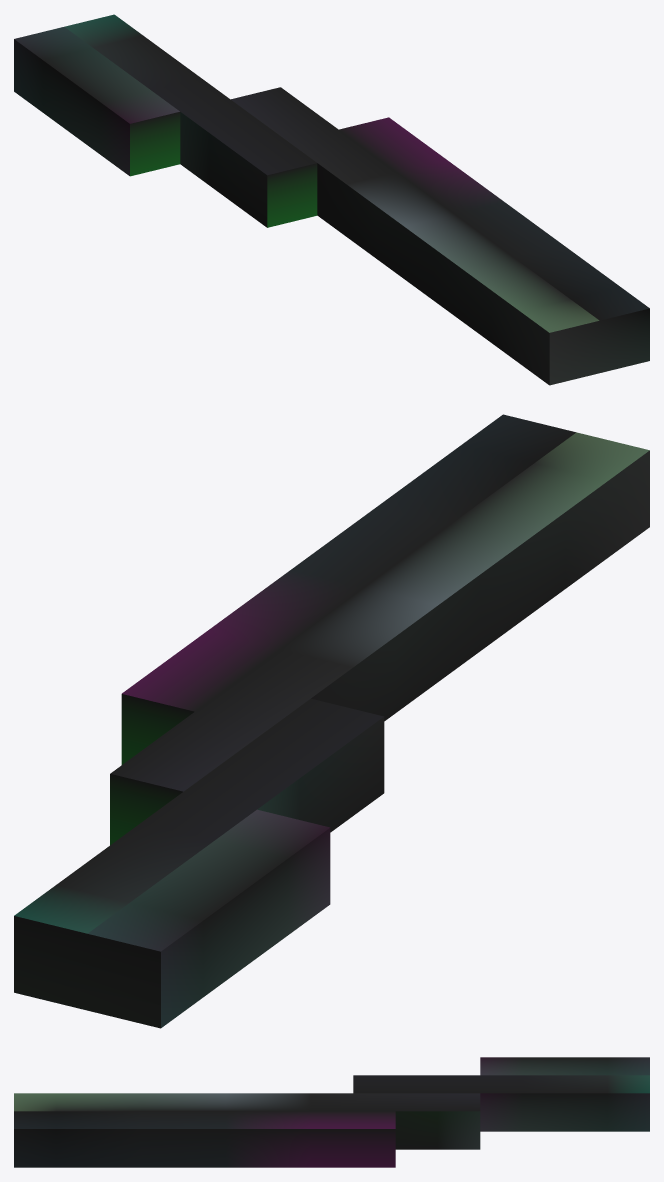
Rendered from Cable_S_00.fbx.
3 renders of one model, top to bottom at view 1: azimuth 30°, elevation 25°; view 2: azimuth 150°, elevation 25°; view 3: azimuth 270°, elevation 25°, orthographic. The views are drawn at different scales.
Parts seen in each view (by area): view 1: Cable_S_00; view 2: Cable_S_00; view 3: Cable_S_00.
Part boxes in pixels (x1,y1,x2,y2): Cable_S_00: [14, 14, 649, 385]; Cable_S_00: [14, 414, 649, 1028]; Cable_S_00: [14, 1057, 649, 1167].
Bounding box in the file's own units: 20 × 5 × 75.
